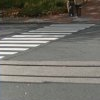crosswalk: (0, 24, 94, 59)
